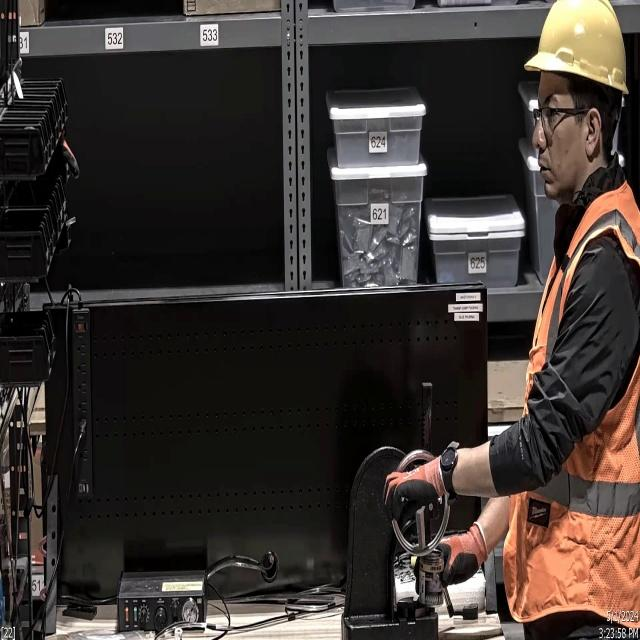construction-gloves: (380, 446, 458, 536), (415, 520, 495, 602)
